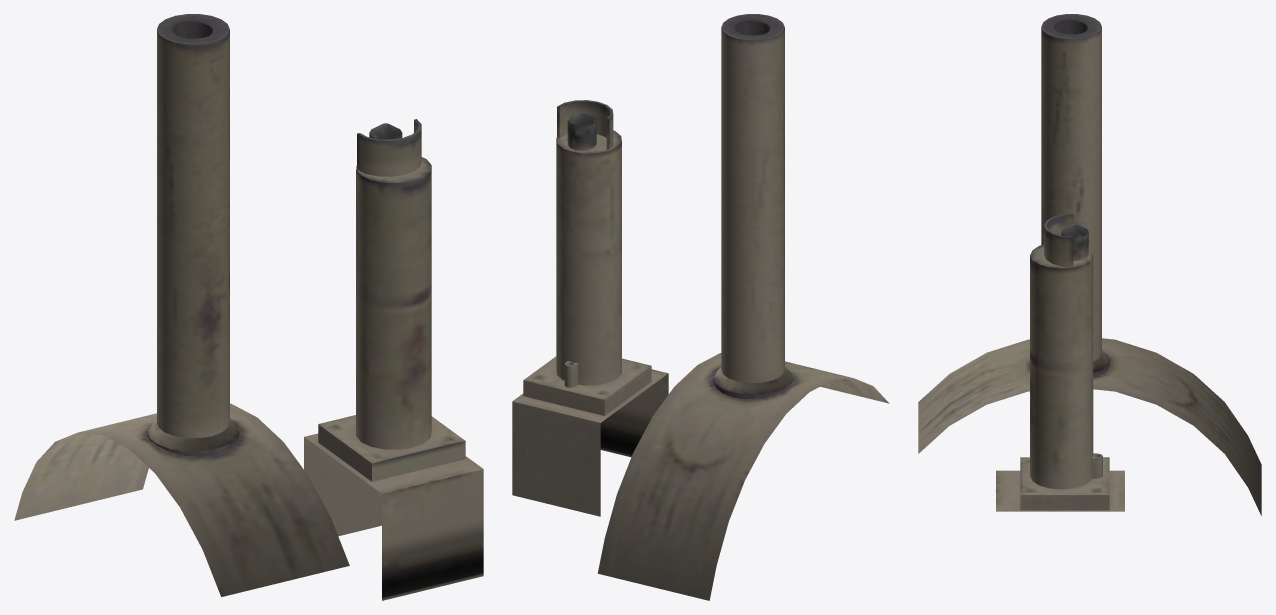
The model's file is Gun_02.glb.
3 renders of one model, left to right at view 1: azimuth 30°, elevation 25°; view 2: azimuth 150°, elevation 25°; view 3: azimuth 270°, elevation 25°, orthographic. The views are drawn at different scales.
Parts seen in each view (by area): view 1: set_0_group_0; view 2: set_0_group_0; view 3: set_0_group_0.
Boxes of the visible parts, x1,y1,x2,y2 form: set_0_group_0: (14,14,483,600); set_0_group_0: (512,14,889,600); set_0_group_0: (918,14,1261,515).
Bounding box in the file's own units: 0.5091 × 0.9032 × 0.5905.
Materials: 1 (1 with a texture image).
